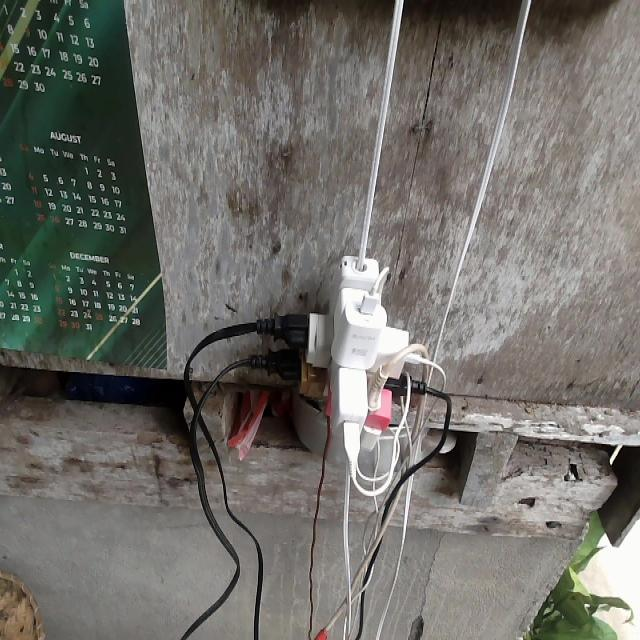-: (246, 255, 432, 481)
